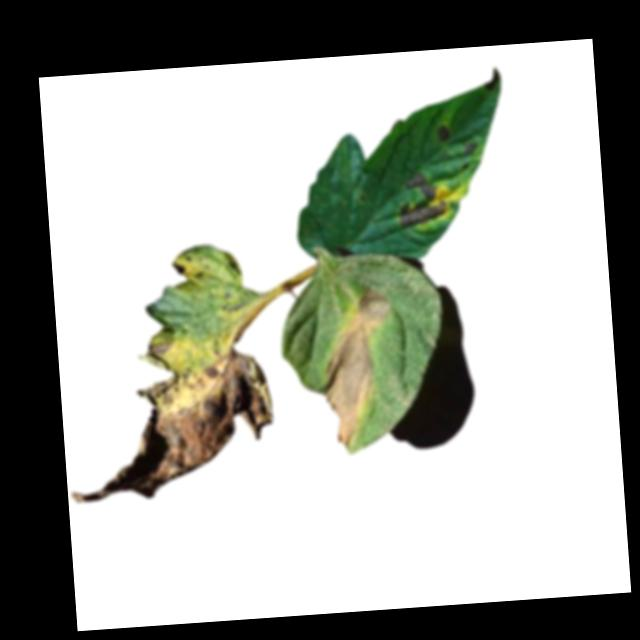Early_blight: (60, 336, 278, 508), (315, 286, 399, 452), (394, 169, 449, 230), (483, 67, 502, 95), (436, 124, 455, 143), (463, 142, 482, 158), (169, 262, 185, 278)
